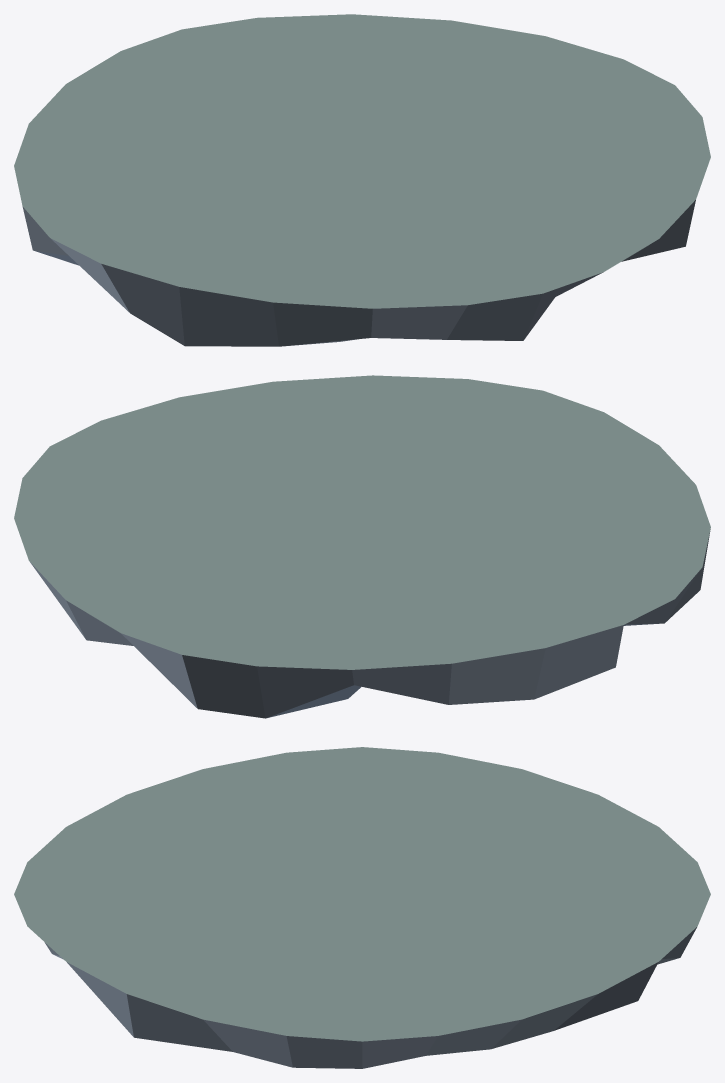
The model's file is Island_Frag_08.glb.
3 views of the same model, one above another, from view 1: azimuth 30°, elevation 25°; view 2: azimuth 150°, elevation 25°; view 3: azimuth 270°, elevation 25° (orthographic). The views are drawn at different scales.
Visible parts, largest first — view 1: Island_Frag_08; view 2: Island_Frag_08; view 3: Island_Frag_08.
Part boxes in pixels (x1,y1,x2,y2): Island_Frag_08: [14, 14, 710, 346]; Island_Frag_08: [14, 375, 710, 718]; Island_Frag_08: [14, 747, 710, 1068].
Size of the model in its own units: 92 by 15.64 by 92.
